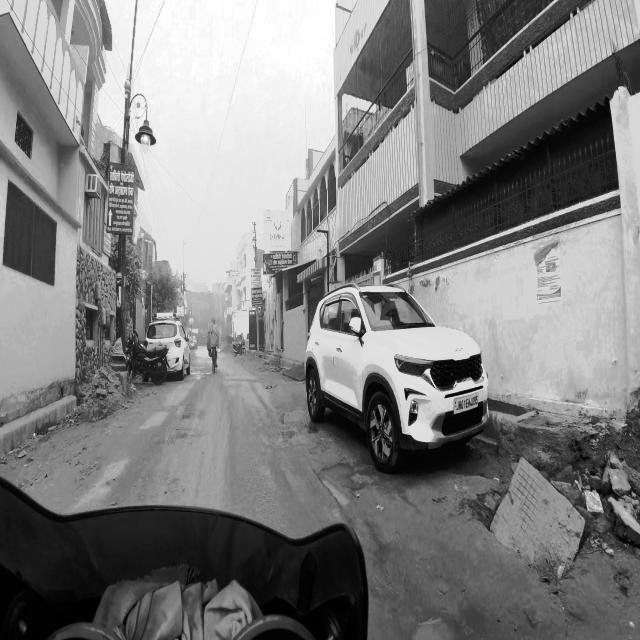Car: (291, 277, 500, 472), (144, 318, 196, 385)
